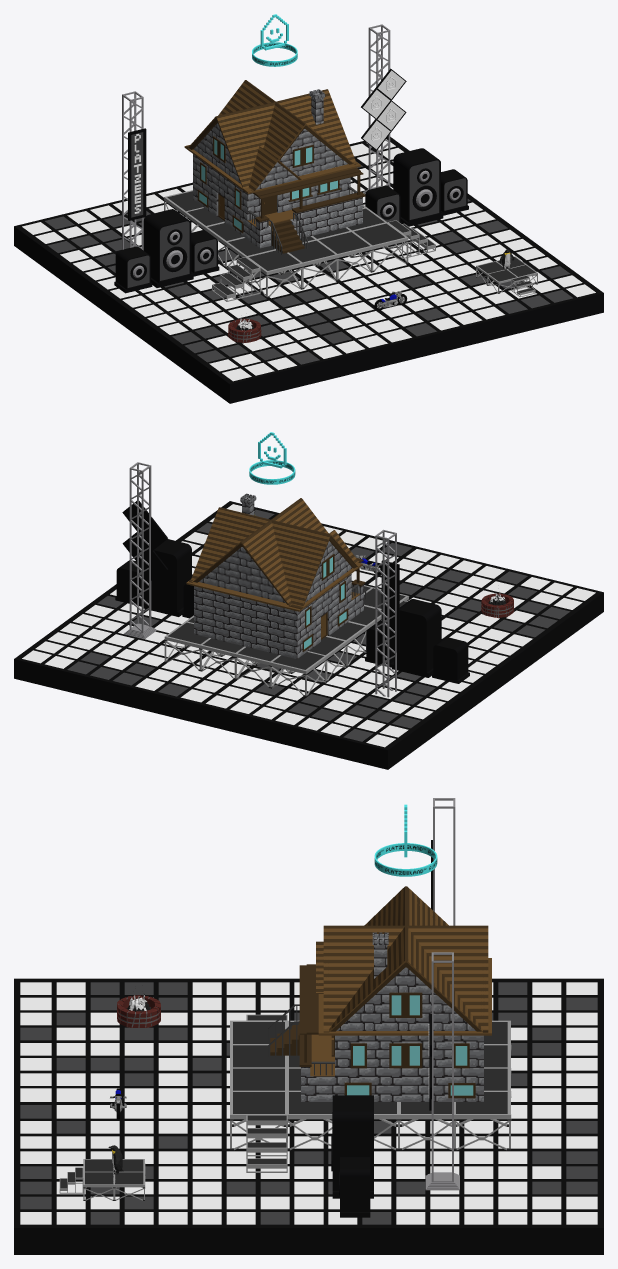
3 views of the same model, one above another, from view 1: azimuth 30°, elevation 25°; view 2: azimuth 150°, elevation 25°; view 3: azimuth 270°, elevation 25° (orthographic). The views are drawn at different scales.
Visible parts, largest first — view 1: Cube.008, Cube.586, TYPE_PREMIUM, OBJRANDOM_CAMPFIRE; view 2: Cube.008, Cube.586, TYPE_PREMIUM, OBJRANDOM_CAMPFIRE; view 3: Cube.008, Cube.586, OBJRANDOM_CAMPFIRE, TYPE_PREMIUM.
Part boxes in pixels (x1=…): Cube.008: x1=14, y1=24, x2=603, y2=403; Cube.586: x1=184, y1=80, x2=365, y2=254; TYPE_PREMIUM: x1=252, y1=14, x2=297, y2=66; OBJRANDOM_CAMPFIRE: x1=228, y1=317, x2=261, y2=342; Cube.008: x1=14, y1=462, x2=603, y2=769; Cube.586: x1=186, y1=493, x2=366, y2=658; TYPE_PREMIUM: x1=249, y1=432, x2=295, y2=484; OBJRANDOM_CAMPFIRE: x1=481, y1=593, x2=514, y2=617; Cube.008: x1=14, y1=798, x2=603, y2=1254; Cube.586: x1=268, y1=886, x2=491, y2=1101; OBJRANDOM_CAMPFIRE: x1=117, y1=993, x2=160, y2=1027; TYPE_PREMIUM: x1=374, y1=804, x2=437, y2=876.
Size of the model in its own units: 4000 by 2512 by 4000.
39 materials, 3 textured.
